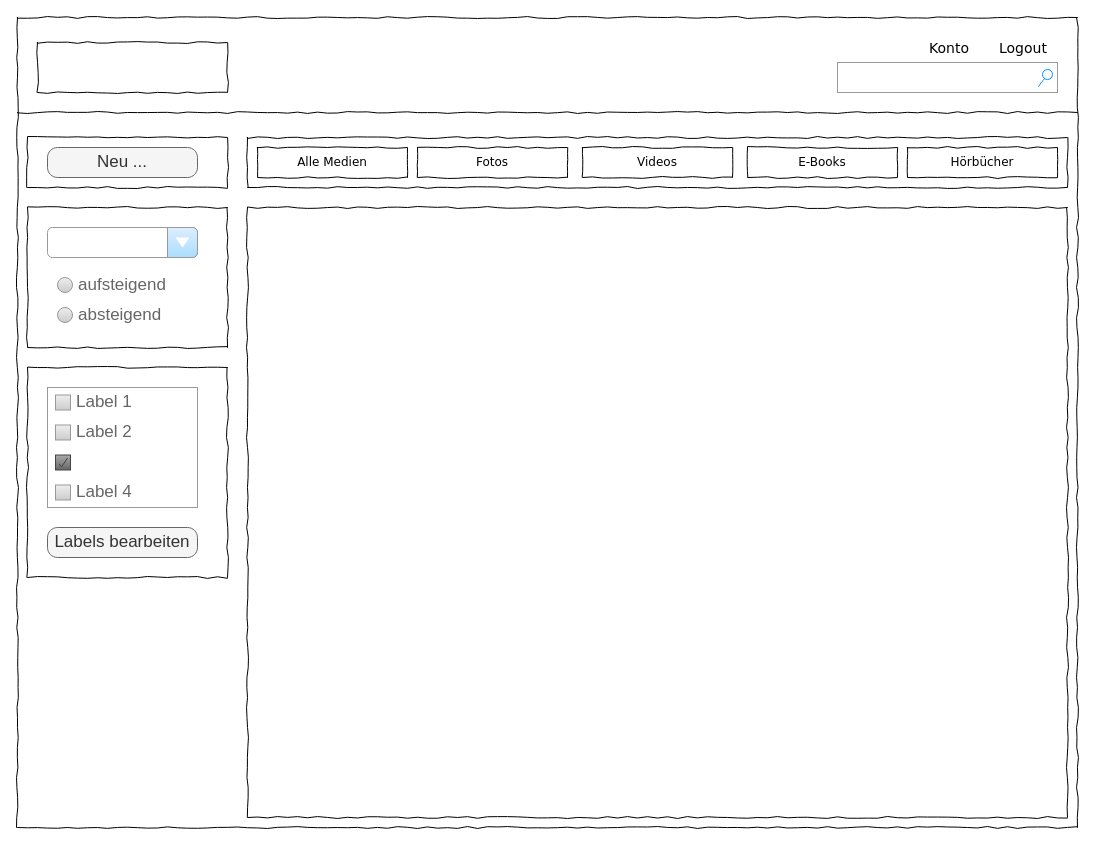
This 1095x845 diagram has some shape labels left out. Each missing label, with the centre of its shape:
"Anzeigebereich" belongs at pixel 657 512.
"Label 3" belongs at pixel 62 462.
"LOGO" belongs at pixel 132 67.
"Search" belongs at pixel 947 77.
"Sortierung ..." belongs at pixel 122 242.
